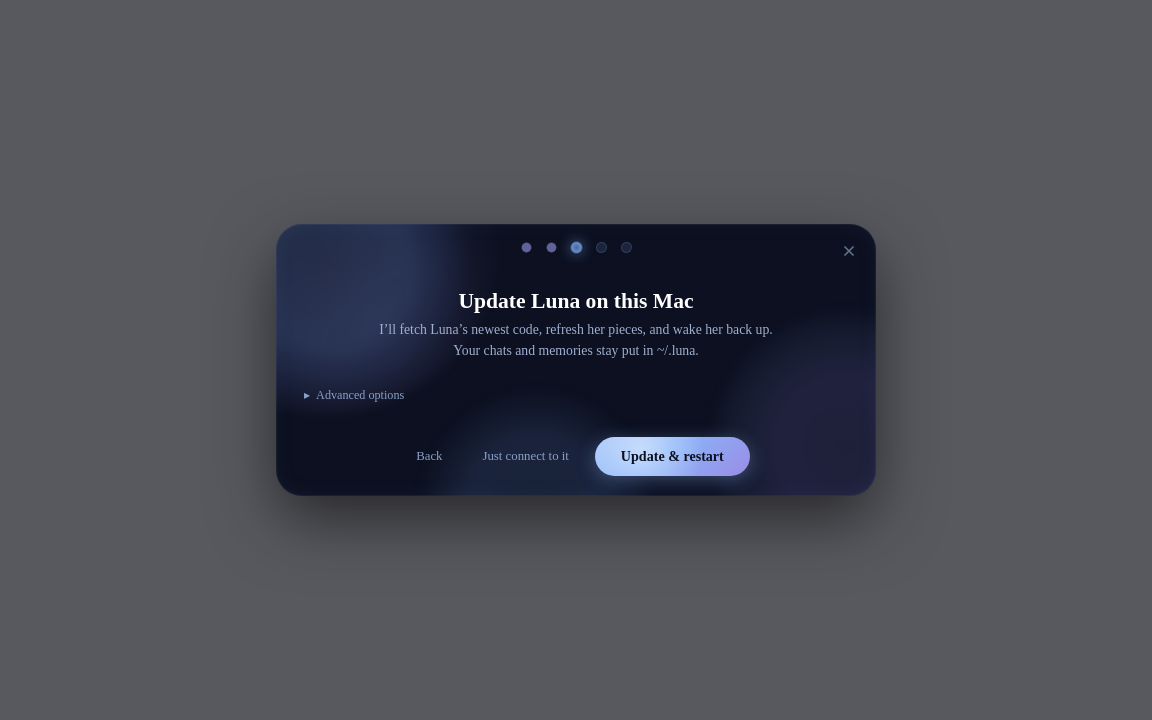
Scenario: setup wizard connect-step auto-test › auto-test uses the prefilled URL on a fresh first run
The image size is (1152, 720).
Click the button "Just connect to it": (526, 456) 468,439 -> 583,474
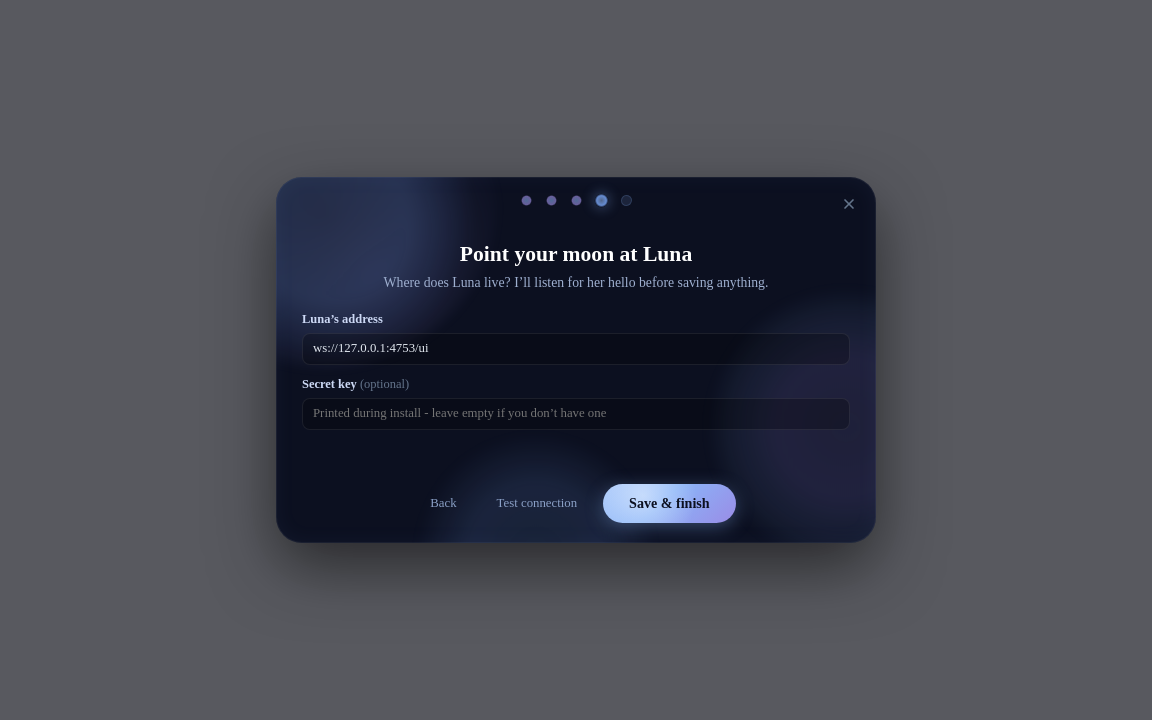
Now the field with id "wizard-connect-url" holds "ws://127.0.0.1:4753/ui", box 302,333 -> 850,365
